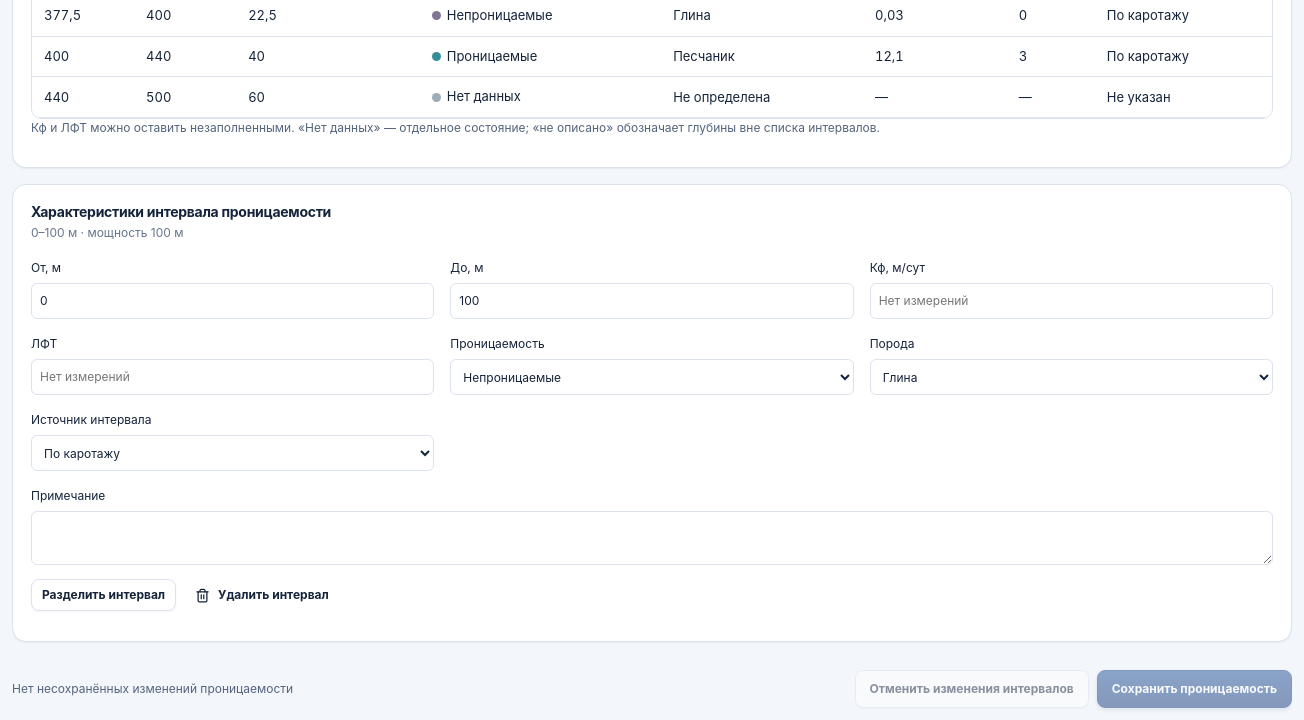
it: permeability workspace › splits a selected interval without losing coverage and can undo the draft
(page scrolled)
Click the button "Разделить интервал" at (104, 595), box x1=31 y1=579 x2=176 y2=611
(page scrolled)
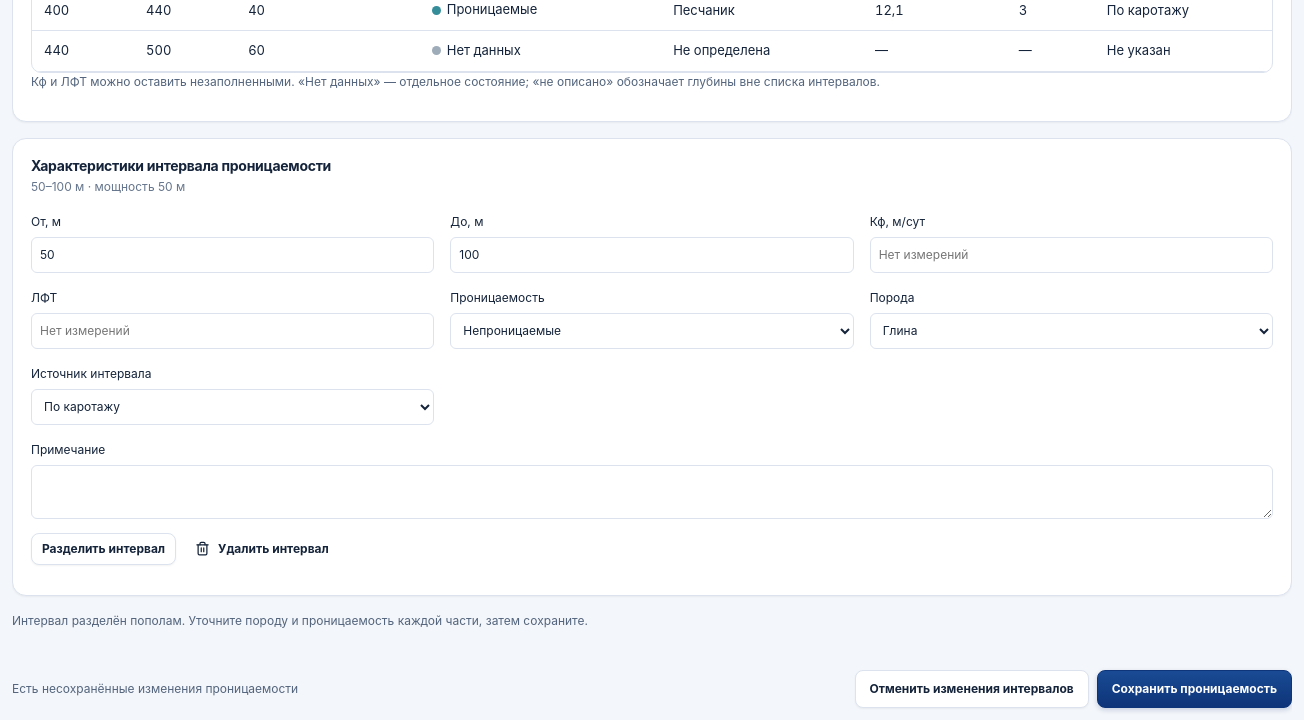
Click the button "Отменить изменения интервалов" at (972, 689), box x1=854 y1=670 x2=1089 y2=708
(page scrolled)
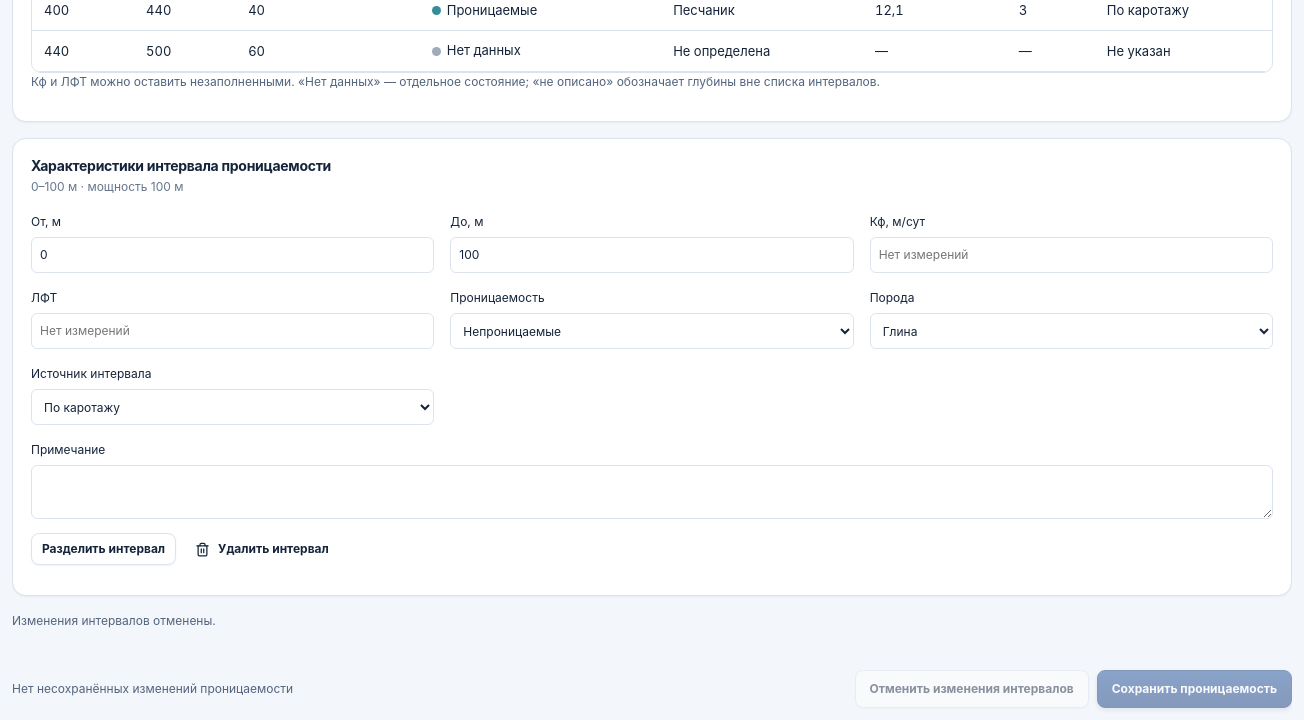
Expected: the number of rows is 8
